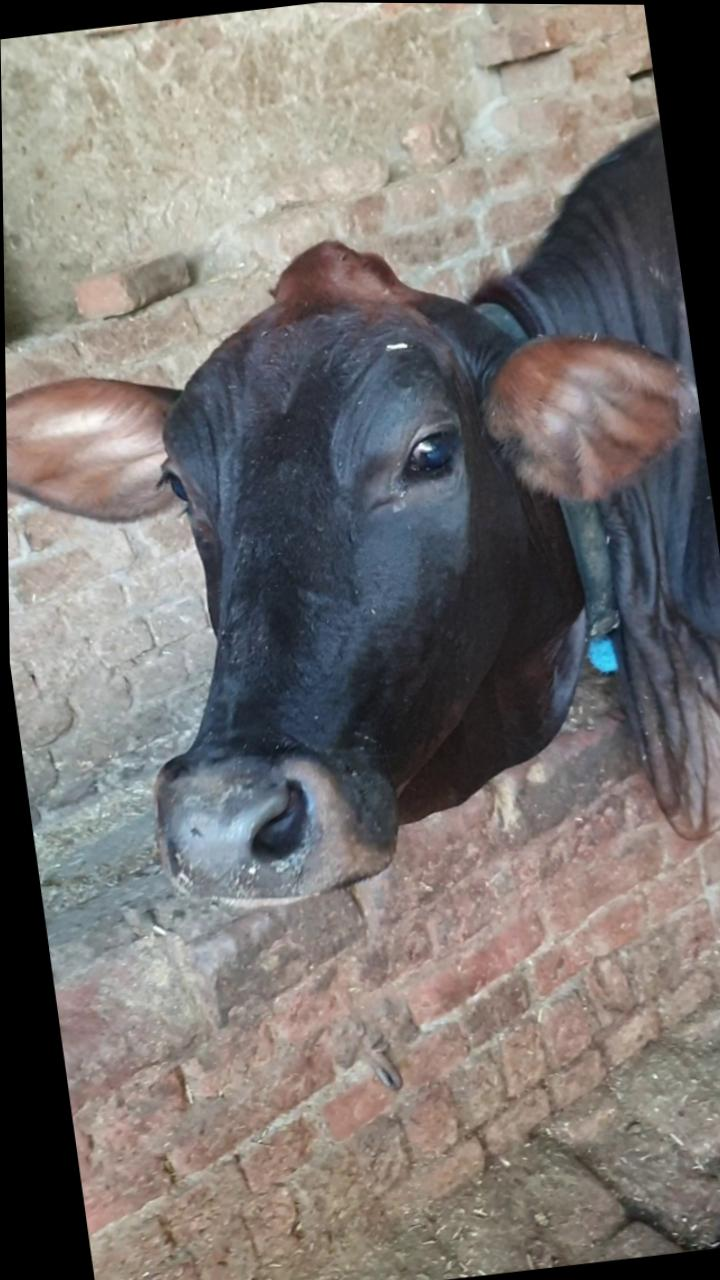cows: (42, 247, 579, 996)
